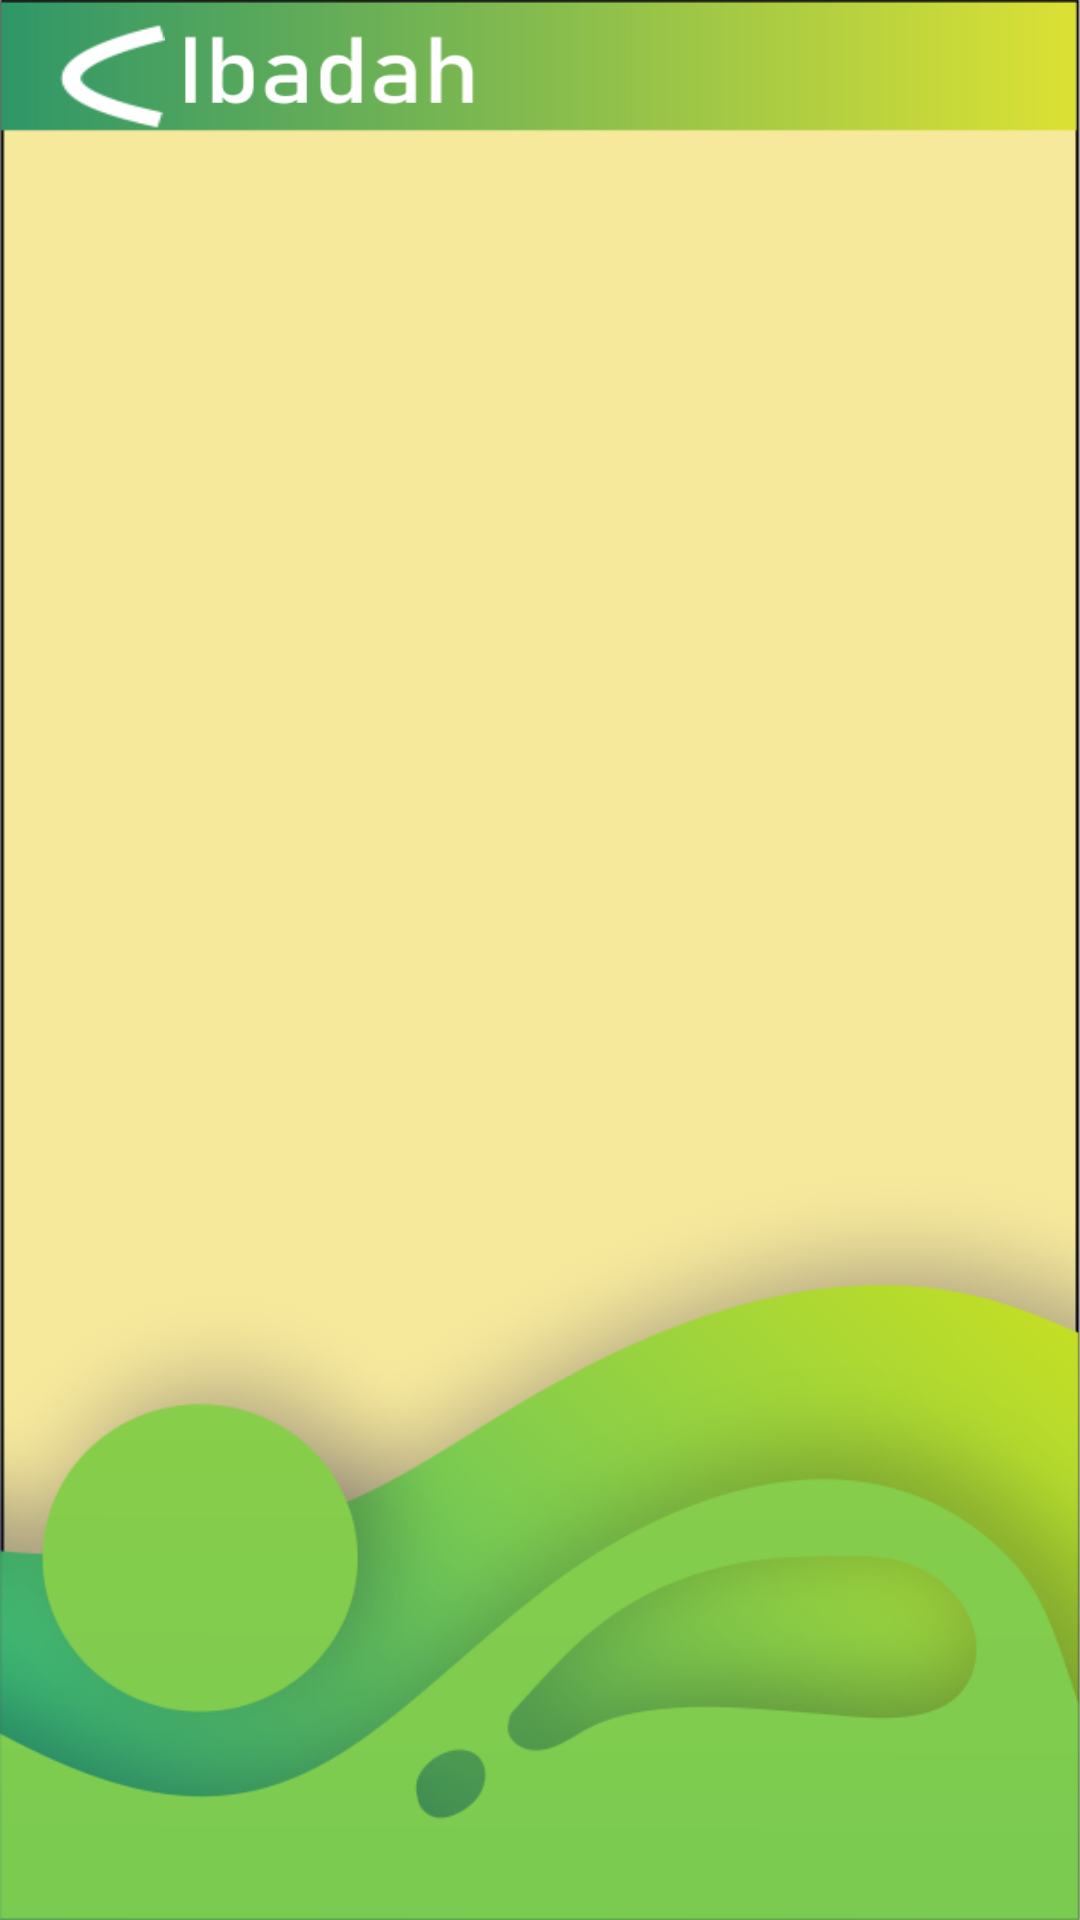

Point at icon controls on the screen. Image size 1080*1920, points as (x=x, y=y).
bback: (x=112, y=76)
